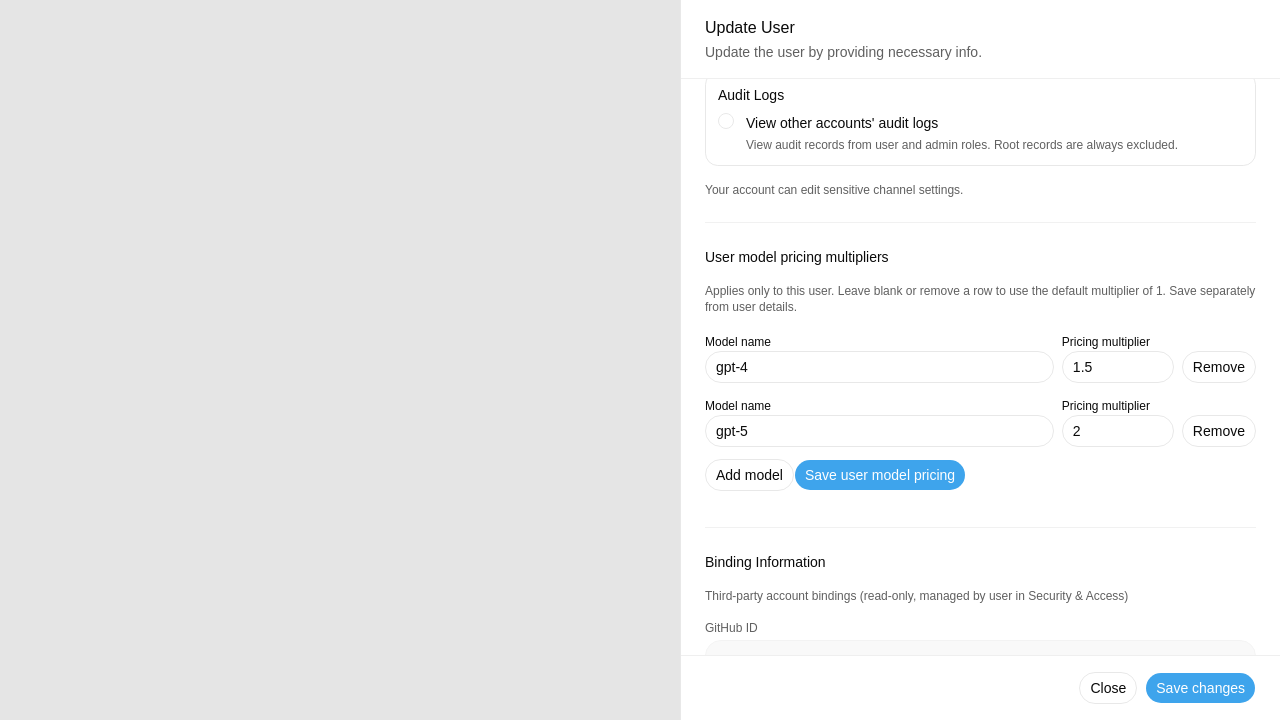
it: rejects invalid user multiplier 0 before sending
(page scrolled)
Replace the text in the 1st field labelled "Pricing multiplier" with "0". click: (1118, 367)
box: [1062,351,1174,383]
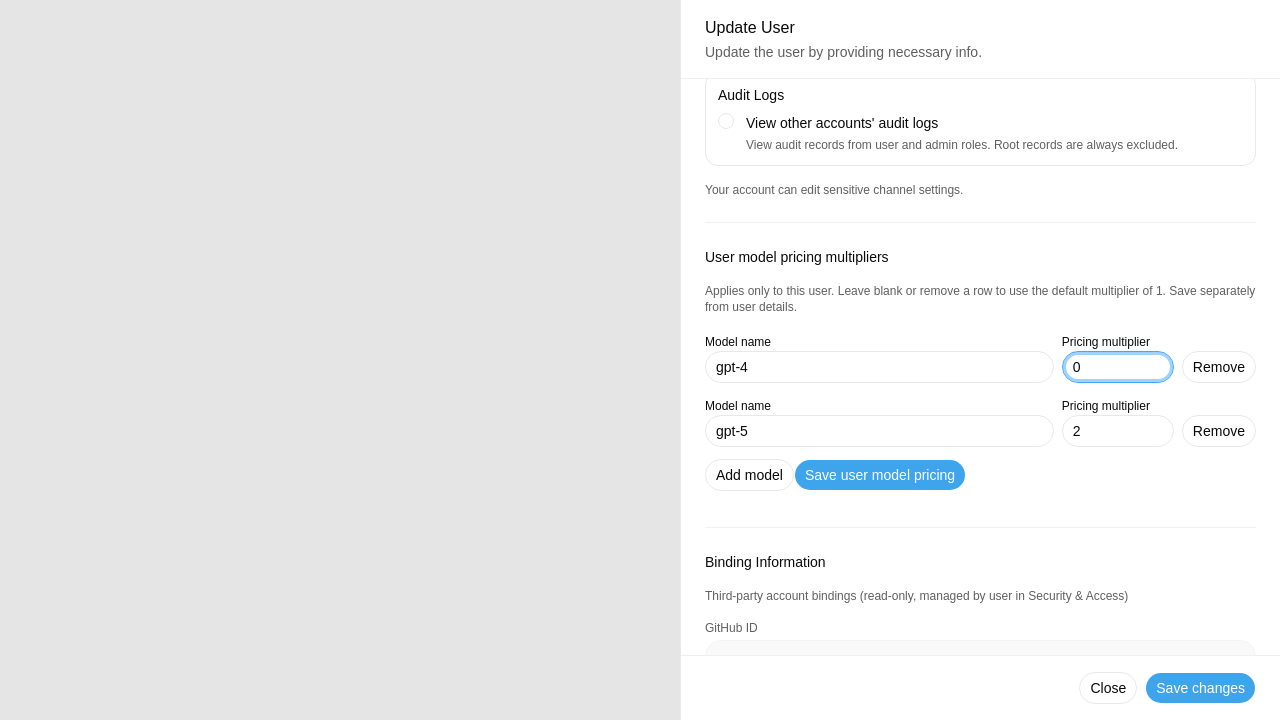
Click the button "Save user model pricing". click: (880, 475)
box: [794,459,966,491]
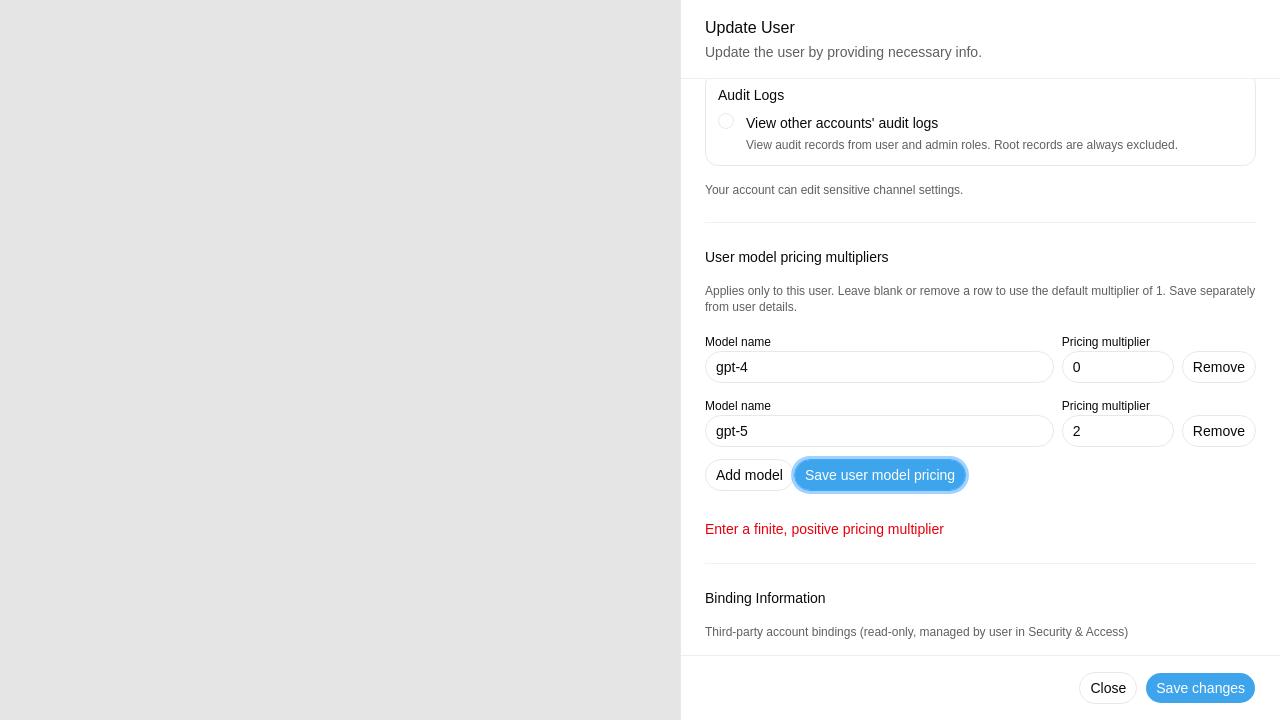
expect the message reads "Enter a finite, positive pricing multiplier": met, box [705,521,944,537]
